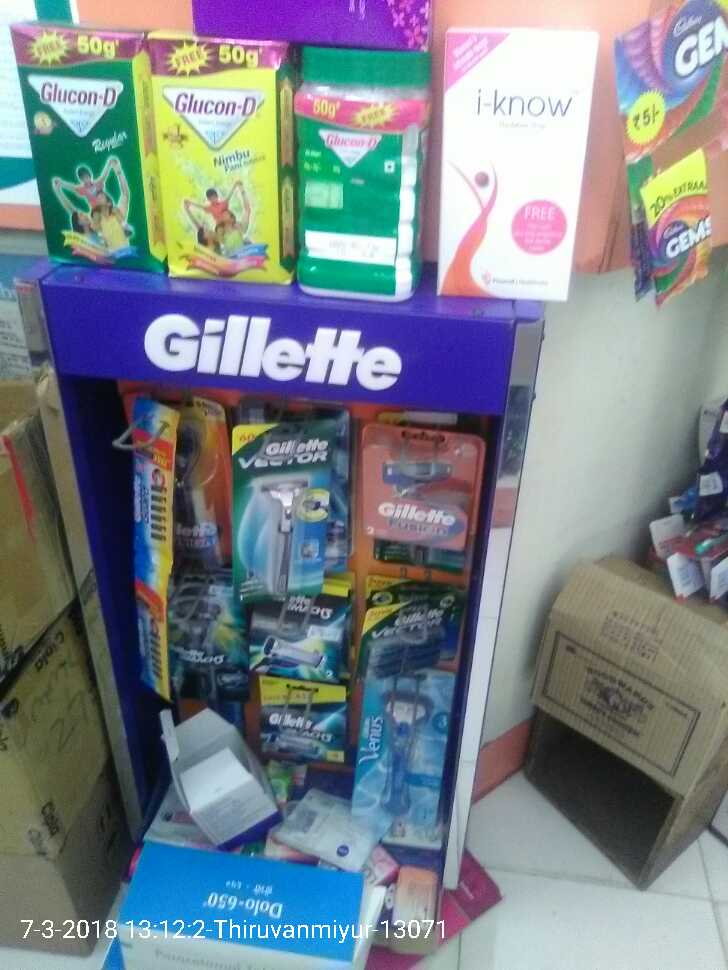beauty: (231, 426, 334, 598), (358, 663, 443, 852), (358, 425, 477, 553), (115, 555, 181, 703), (170, 590, 240, 715), (250, 590, 349, 678), (258, 682, 347, 761), (364, 601, 459, 672), (125, 445, 175, 548)
